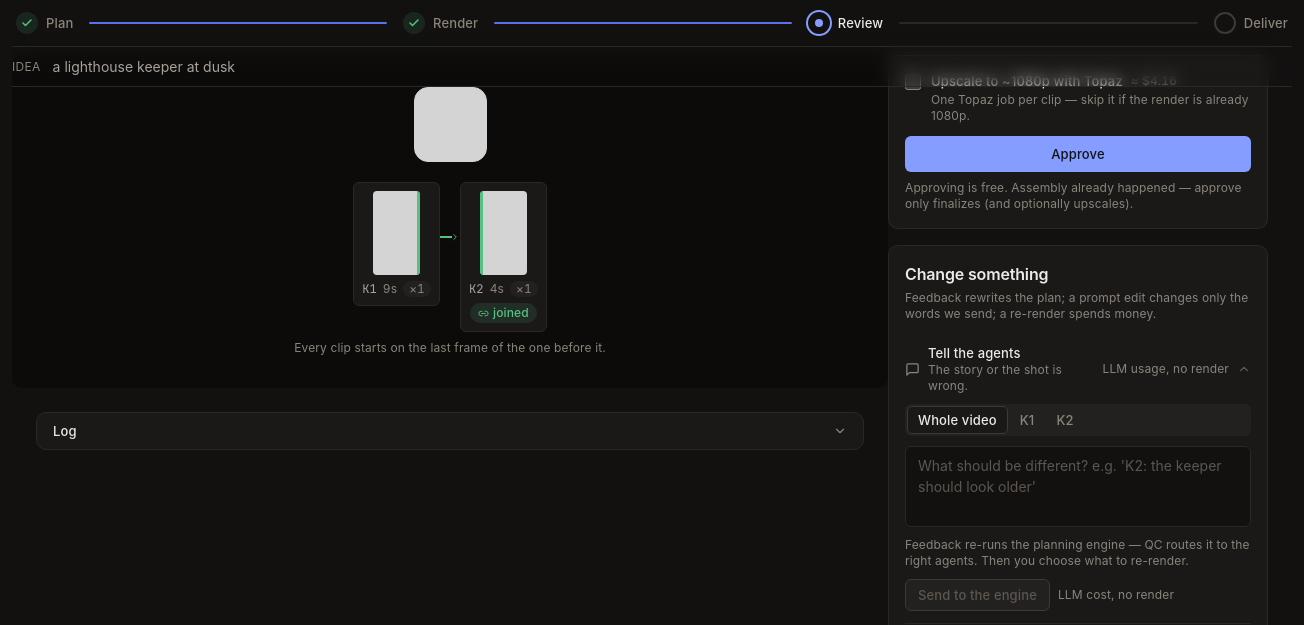
Test: PromptSheet › a run that has sent nothing yet gets a static label, not a one-segment control
Expected: the element named "Review stage" is shown, [12,55,888,388]
Click the button "K2 4s ×1 joined".
click(503, 257)  # box [460,182,547,332]
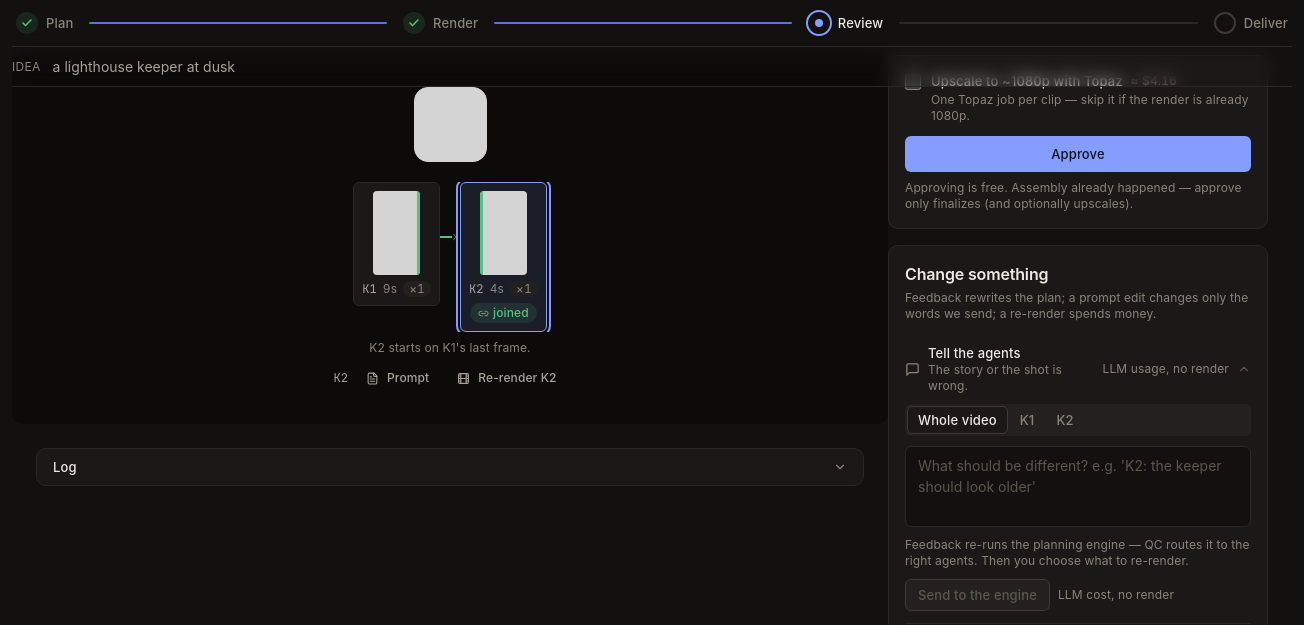
Click the button with aria-label "Prompt for K2".
click(398, 378)  # box [356,364,439,392]
(page scrolled)
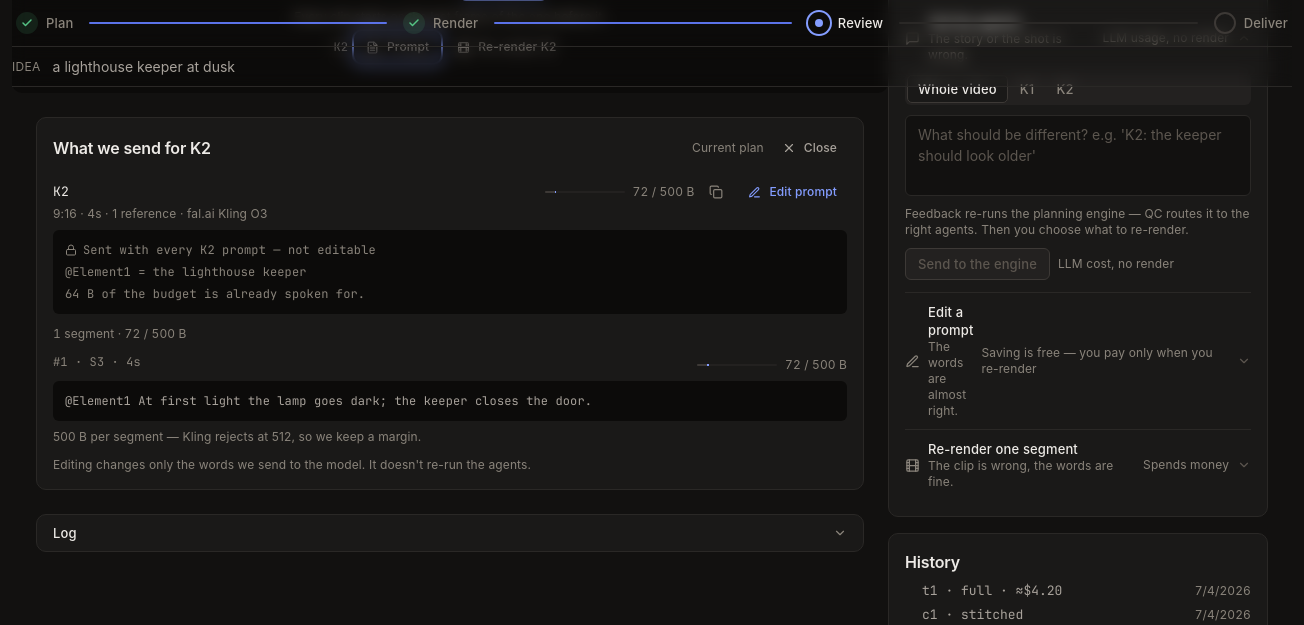
Expected: the element with test id "prompt-sheet" shows "Current plan", [692,140,764,155]
